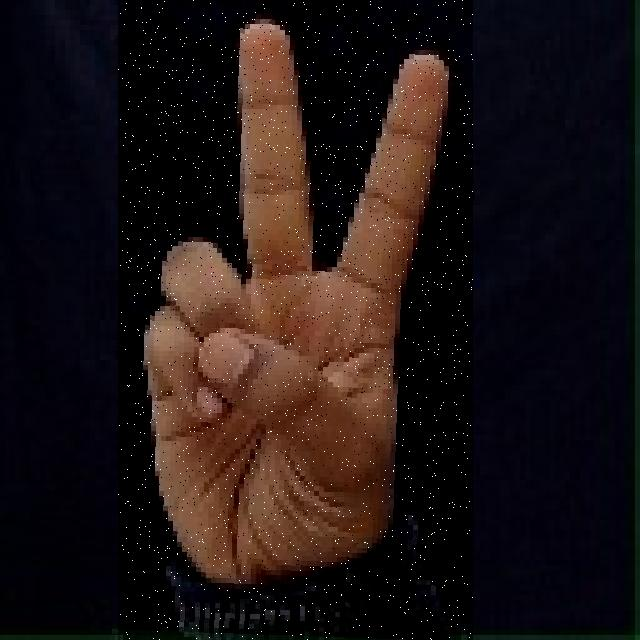No: (118, 0, 473, 640)
